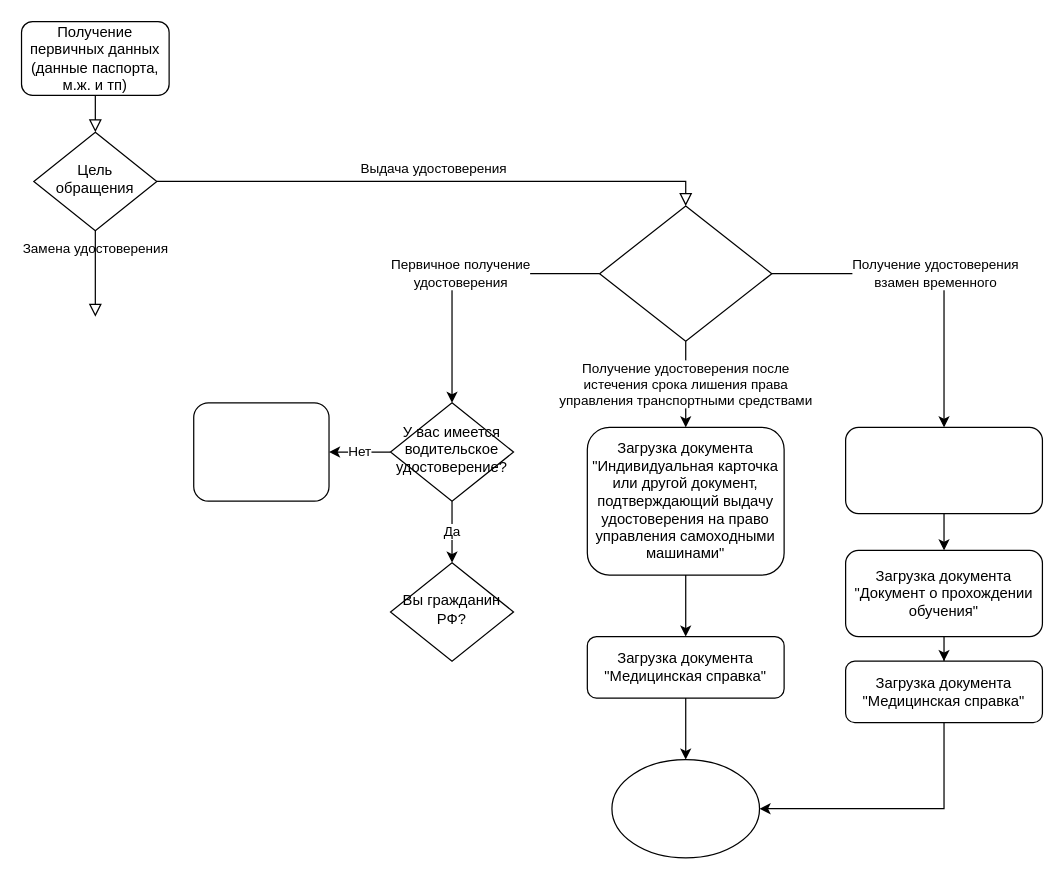
This 1064x879 diagram has some shape labels left out. Each missing label, with the box of its shape:
Вы обращаетесь за выдачей удостоверения первично?: (598, 205, 772, 341)
Выбор категорий: (192, 402, 329, 501)
Выбор подразделения и завершение услуги: (611, 758, 760, 858)
Загрузка документа "Временное удостоверение тракториста-машиниста": (844, 426, 1042, 514)
